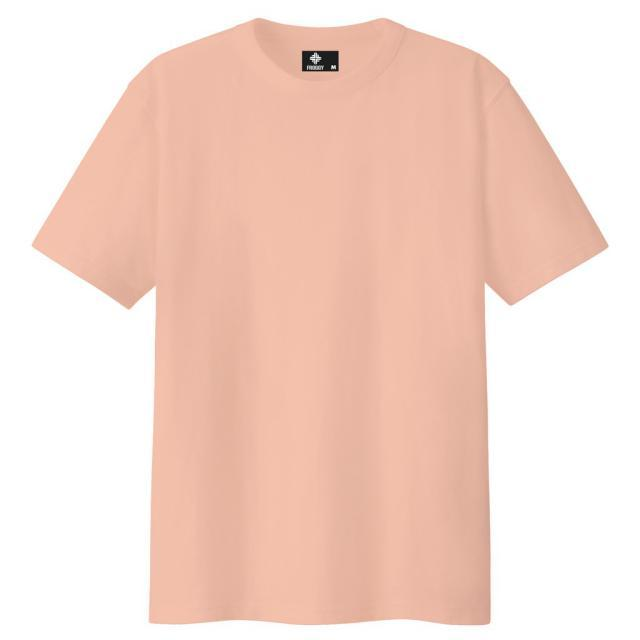Shirt: (30, 12, 611, 624)
